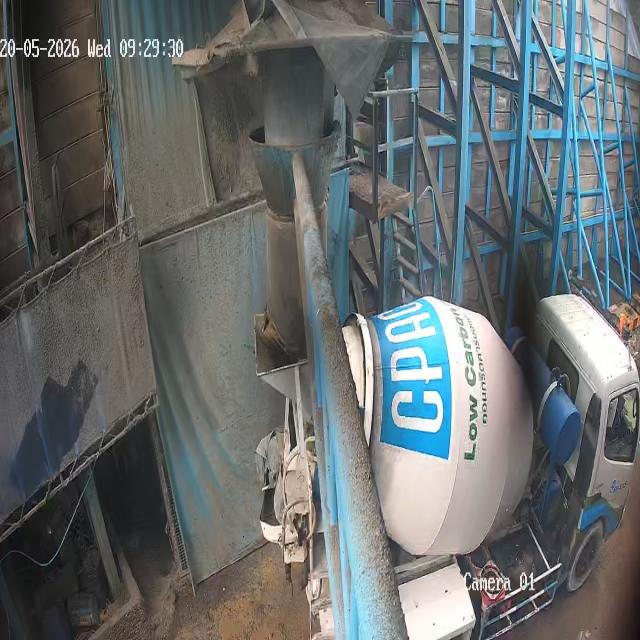cement_mixer_truck: (253, 288, 639, 639)
swing_chute: (247, 123, 343, 356)
